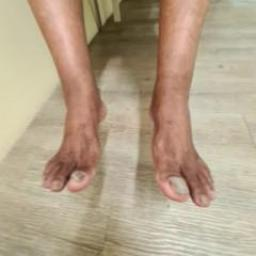Front View -Both Feet-: (25, 47, 227, 225)
